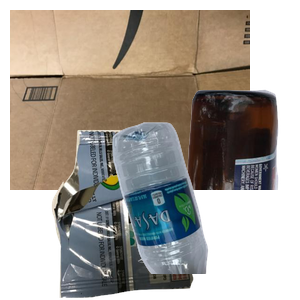cardboard: (10, 10, 250, 190)
glass: (87, 87, 300, 267)
plastic: (110, 120, 300, 300)
trash: (49, 130, 235, 300)
